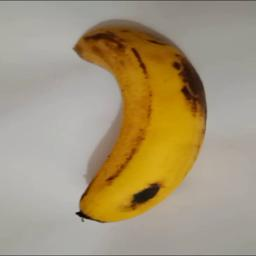Banana Semifresh: (68, 27, 208, 220)
